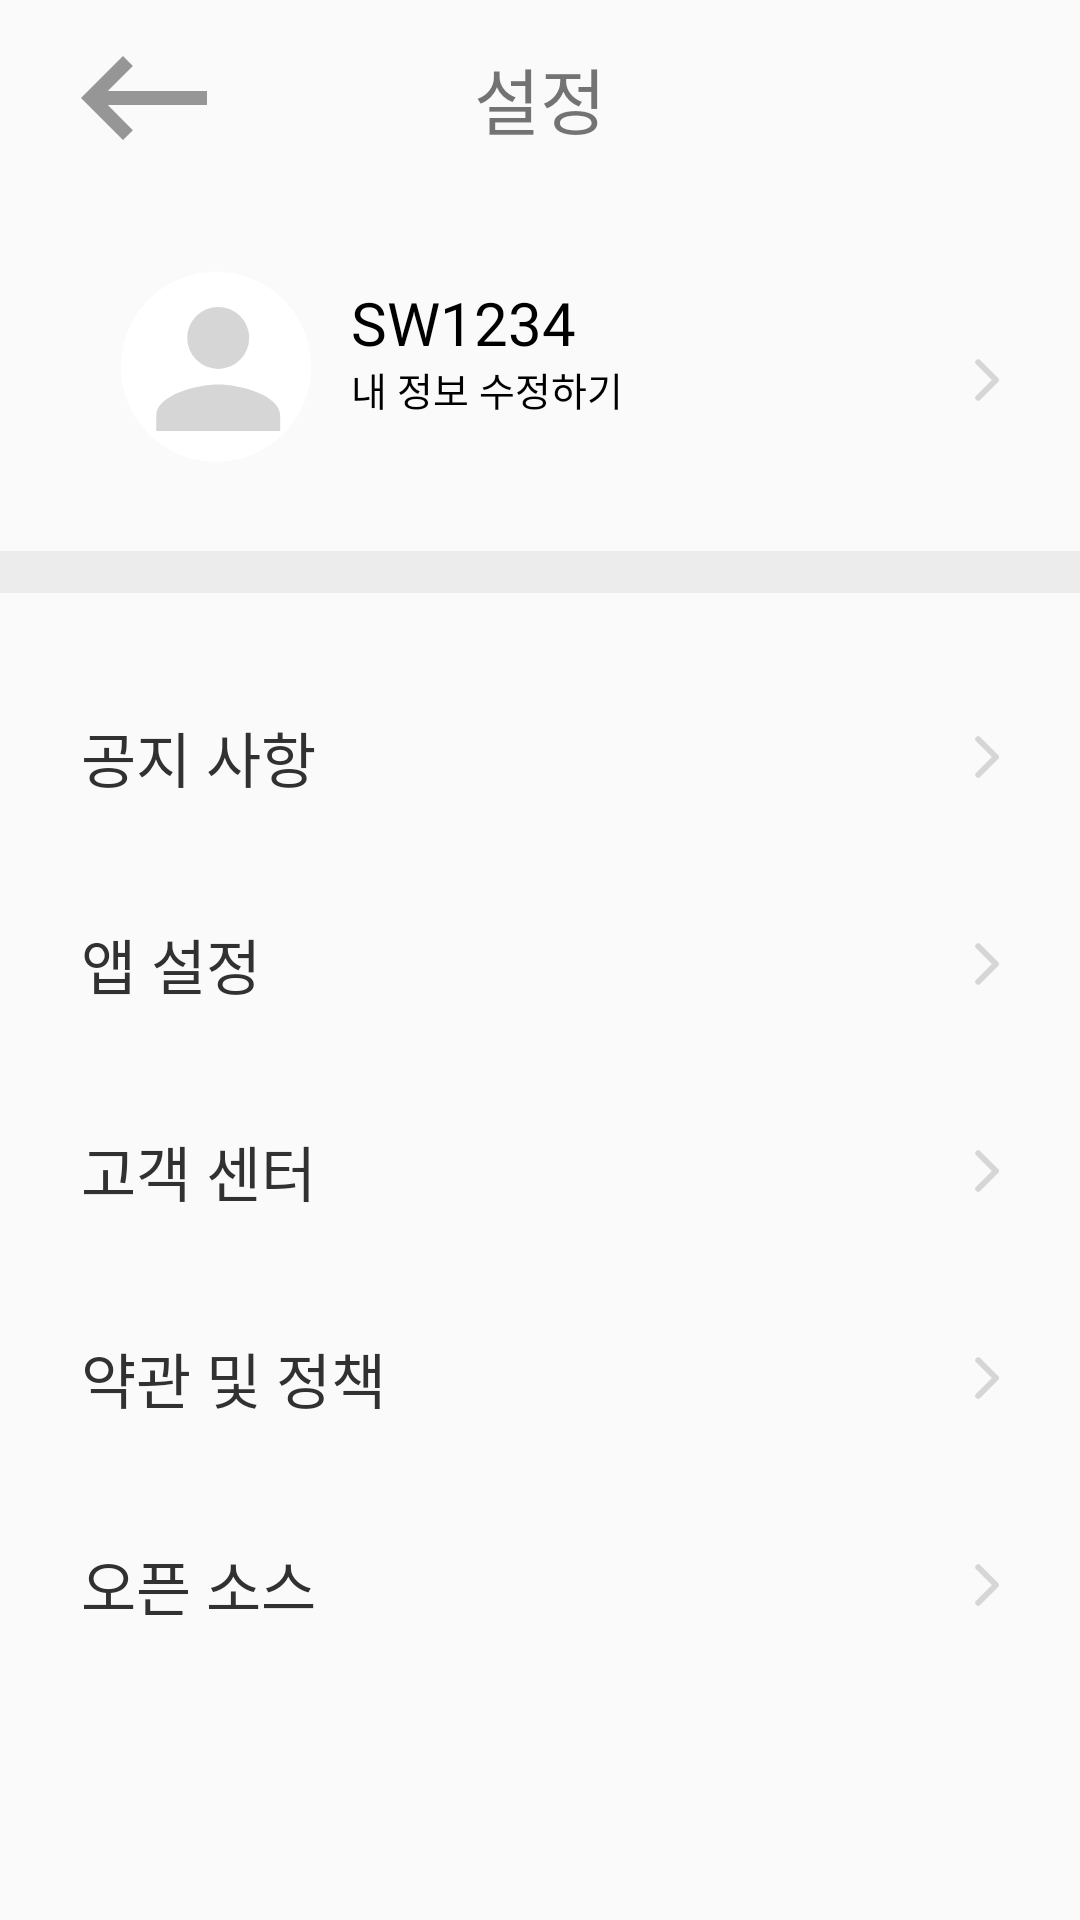

Screen size 1080×1920. Icon name, then its center in pixels as point (x, y):
back: point (144, 98)
